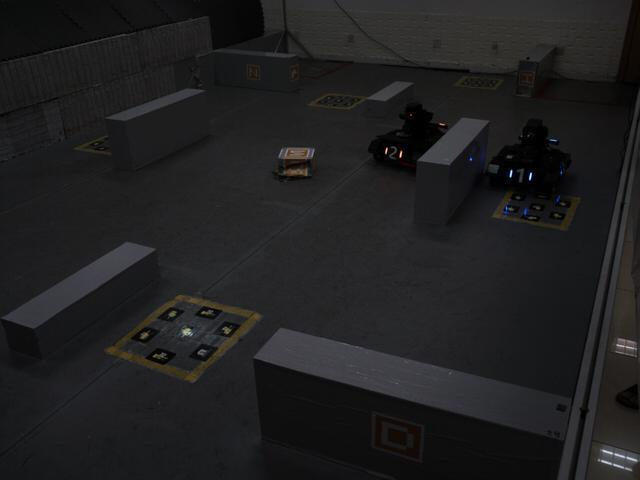armor: (505, 163, 535, 187), (381, 142, 406, 163)
